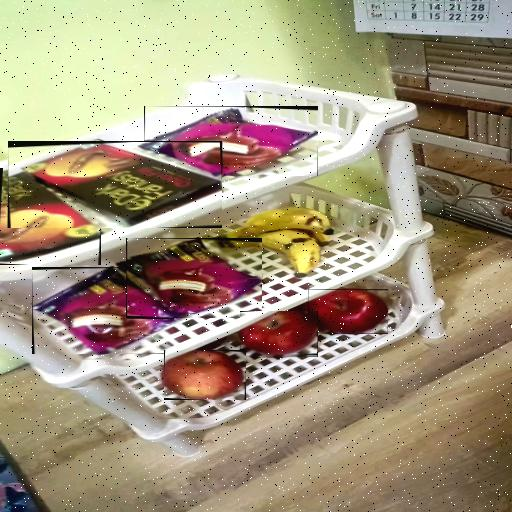Apple: (164, 350, 246, 400), (308, 289, 388, 334), (240, 312, 318, 358)
Choco Fills: (8, 141, 222, 228), (0, 168, 101, 265)
Choco Pie: (32, 267, 174, 354), (144, 106, 318, 176), (126, 238, 262, 318)
